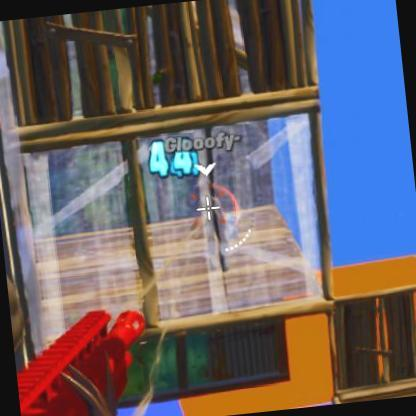person: (192, 173, 238, 268)
